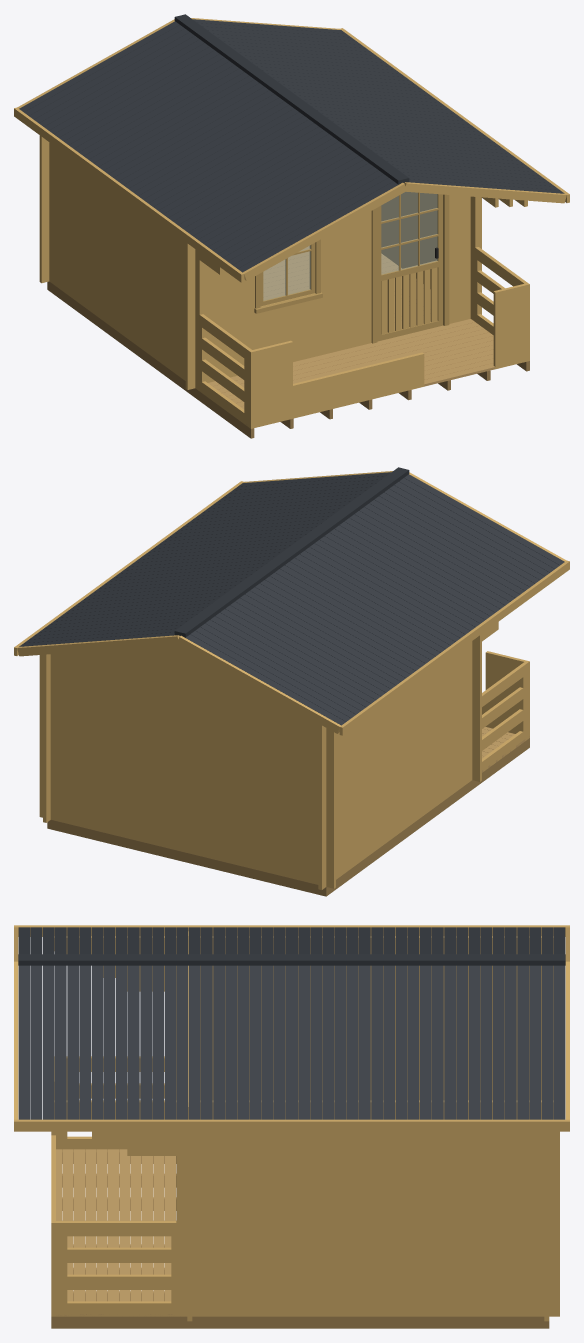
The model's file is эльза_3_8_4_8_44_мм_терраса_с_лавочкой.glb.
The picture shows the model from 3 angles, top to bottom: view 1: azimuth 30°, elevation 25°; view 2: azimuth 150°, elevation 25°; view 3: azimuth 270°, elevation 25°; orthographic projection. The views are drawn at different scales.
Visible parts, largest first — view 1: roof, walls, deck, object 15, house, floor, object 28, object 21, object 22, object 3, object 2; view 2: walls, roof, house; view 3: roof, walls, deck, house.
Part boxes in pixels (<box>): roof: <box>14,14,569,282</box>; walls: <box>39,135,529,428</box>; deck: <box>208,319,495,425</box>; object 15: <box>381,192,437,274</box>; house: <box>47,281,529,438</box>; floor: <box>263,246,430,329</box>; object 28: <box>263,245,310,300</box>; object 21: <box>371,208,377,343</box>; object 22: <box>443,194,449,325</box>; object 3: <box>437,194,442,326</box>; object 2: <box>377,206,381,341</box>; walls: <box>39,622,529,889</box>; roof: <box>14,467,569,735</box>; house: <box>47,738,529,896</box>; roof: <box>14,925,569,1131</box>; walls: <box>51,931,559,1321</box>; deck: <box>56,1149,180,1316</box>; house: <box>51,1152,549,1328</box>.
Bounding box in the file's own units: 4.24 × 2.9 × 5.08.
